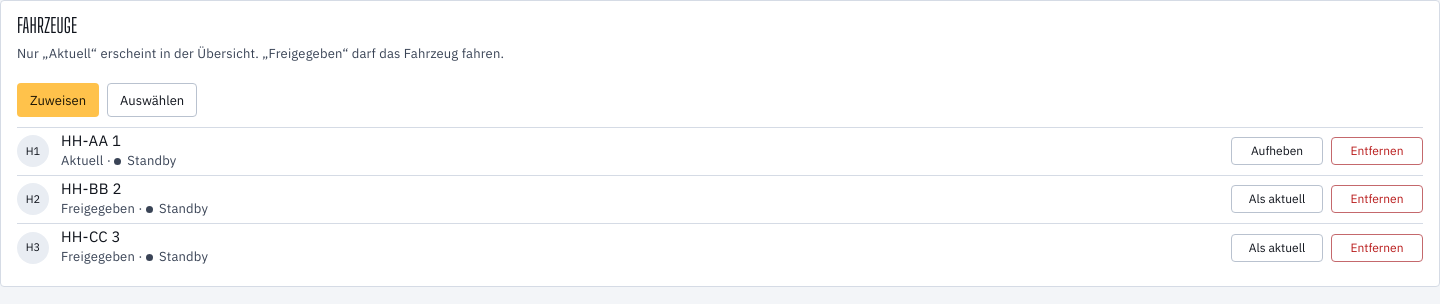
it: Fahrzeuge panel on the driver detail › ends selection mode with Escape
This screenshot has width=1440, height=304.
Click the button "Auswählen" at (152, 100), box [107,83,197,117]
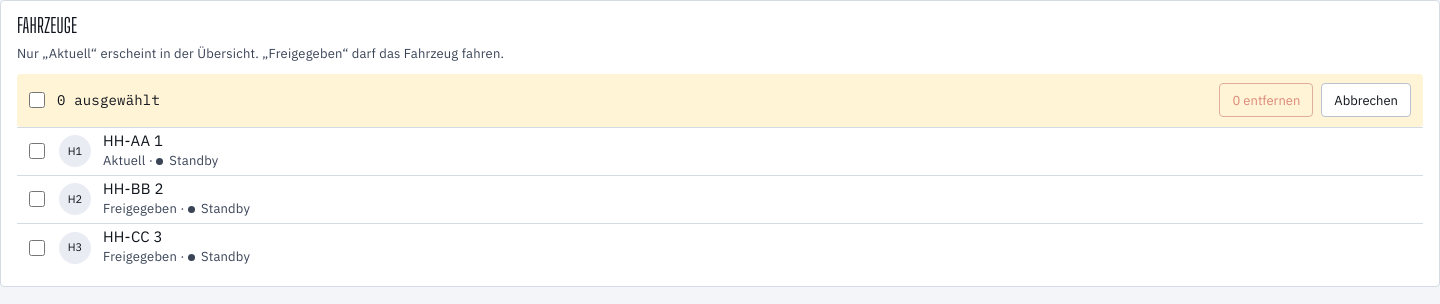
Press Escape
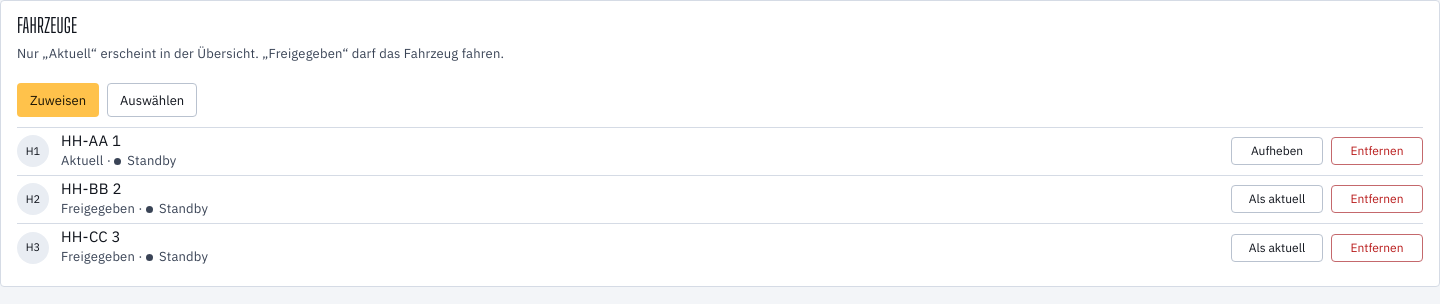
Expected: the button "Auswählen" is shown, [107,83,197,117]
Expected: no checkboxes are shown
